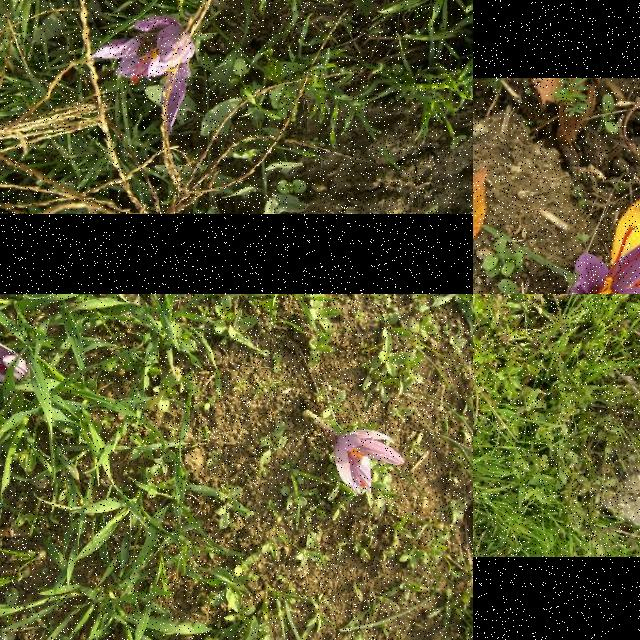flower: (92, 17, 198, 138), (565, 225, 640, 294), (333, 428, 407, 496), (0, 340, 27, 382)
